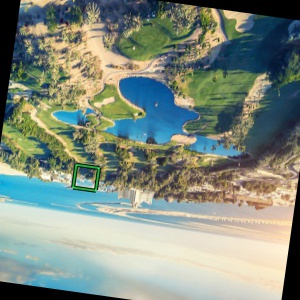square: (69, 161, 101, 194)
